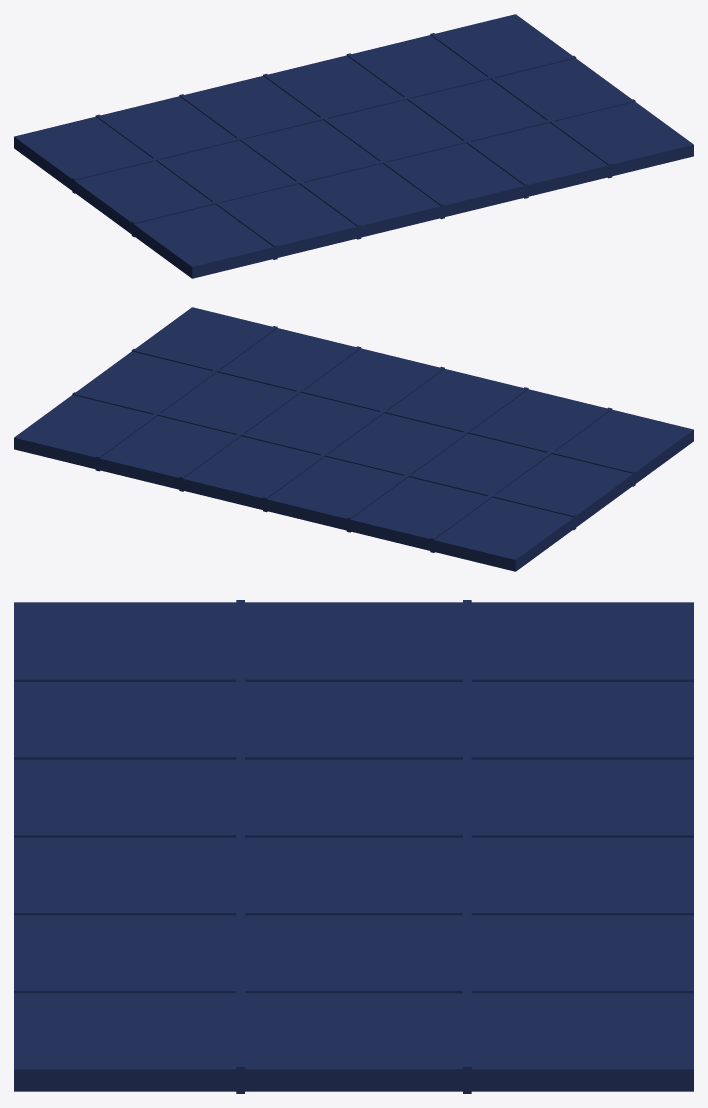
File: solar-panel.glb
3 views of the same model, one above another, from view 1: azimuth 30°, elevation 25°; view 2: azimuth 150°, elevation 25°; view 3: azimuth 270°, elevation 25° (orthographic). The views are drawn at different scales.
Visible parts, largest first — view 1: solar_merged; view 2: solar_merged; view 3: solar_merged.
Part boxes in pixels (x1,y1,x2,y2): solar_merged: (14, 14, 693, 278); solar_merged: (14, 307, 693, 571); solar_merged: (14, 600, 693, 1093).
Size of the model in its own units: 1.56 by 0.042 by 0.96.
